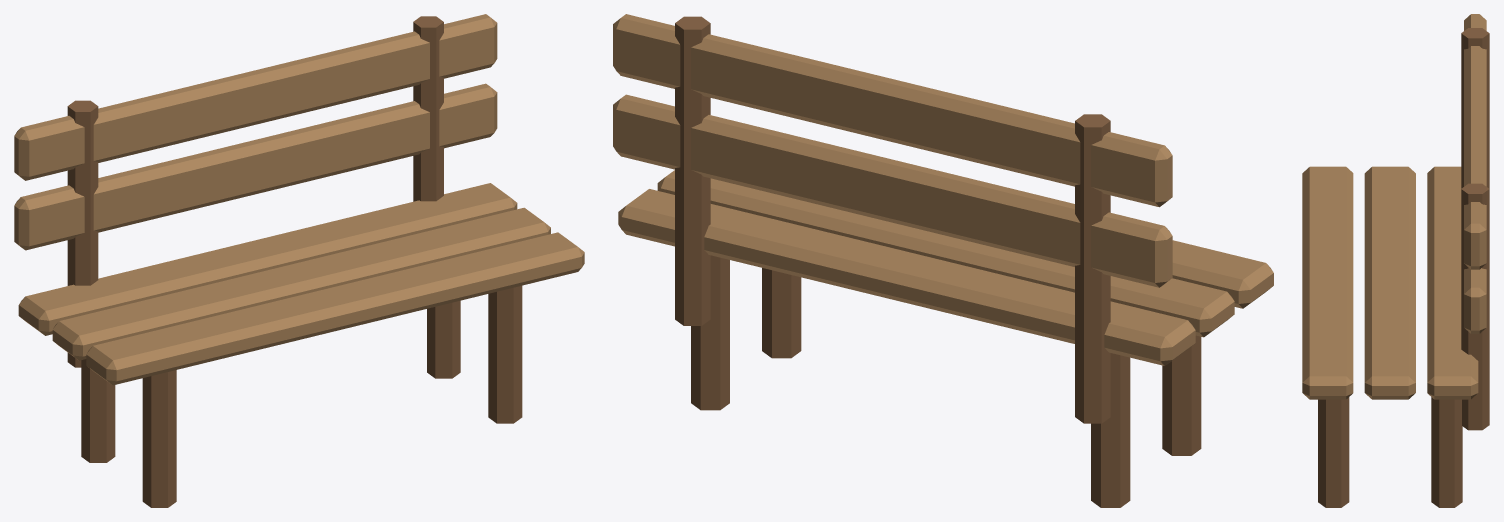
File: bench.glb
3 renders of one model, left to right at view 1: azimuth 30°, elevation 25°; view 2: azimuth 150°, elevation 25°; view 3: azimuth 270°, elevation 25°, orthographic. The views are drawn at different scales.
Visible parts, largest first — view 1: bench_wood_light, bench_wood; view 2: bench_wood_light, bench_wood; view 3: bench_wood_light, bench_wood.
Boxes of the visible parts, left/top/right/bottom form: bench_wood_light: left=14, top=14, right=584, bottom=385; bench_wood: left=67, top=16, right=522, bottom=507; bench_wood_light: left=613, top=14, right=1273, bottom=365; bench_wood: left=675, top=16, right=1201, bottom=507; bench_wood_light: left=1302, top=14, right=1486, bottom=399; bench_wood: left=1318, top=28, right=1489, bottom=507.
Size of what is drawn, in the model's own units: 1.8 by 1.22 by 0.66.
